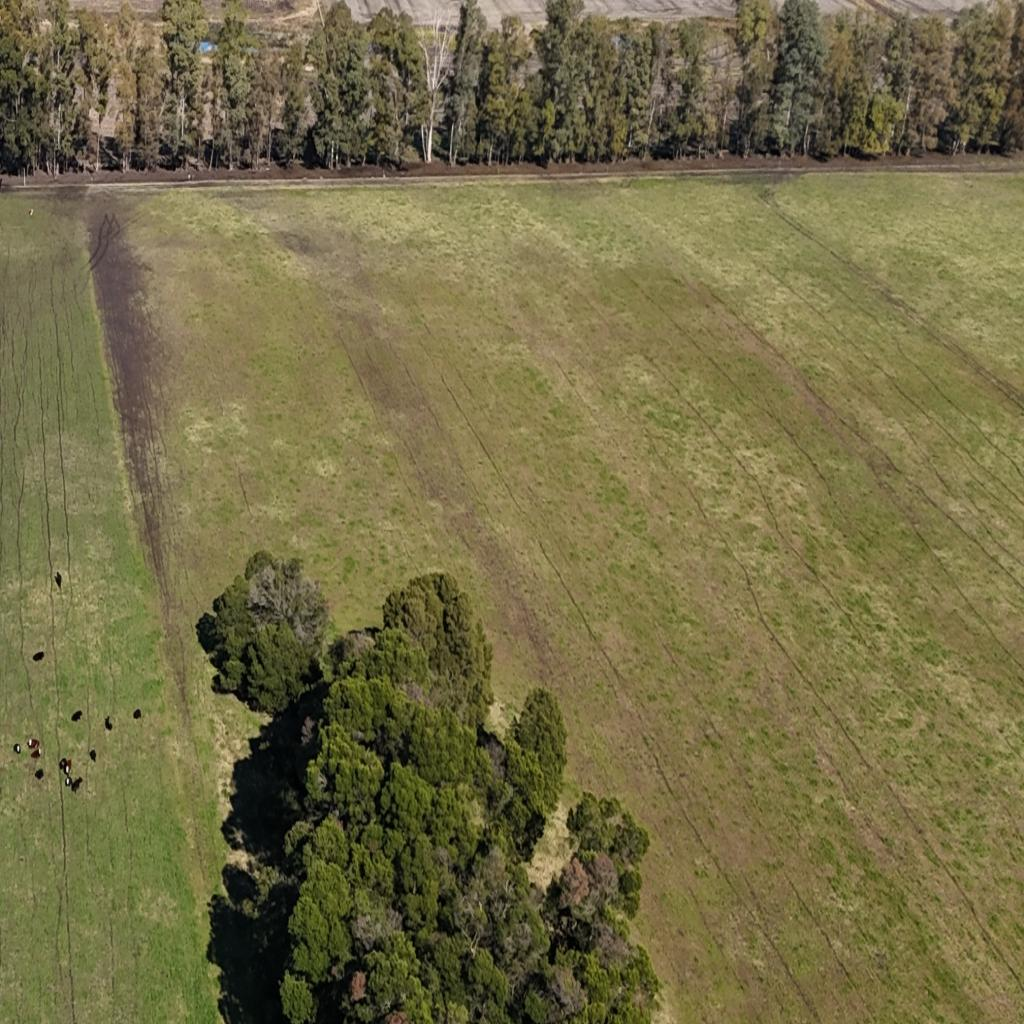cow: (70, 777, 83, 792), (32, 649, 45, 662), (54, 572, 62, 590), (72, 711, 83, 724), (34, 768, 44, 781), (65, 758, 72, 776), (28, 738, 40, 748), (31, 748, 41, 759), (134, 711, 142, 724), (89, 748, 96, 762), (14, 743, 22, 754), (105, 719, 112, 731), (65, 777, 71, 786), (59, 758, 64, 767)
